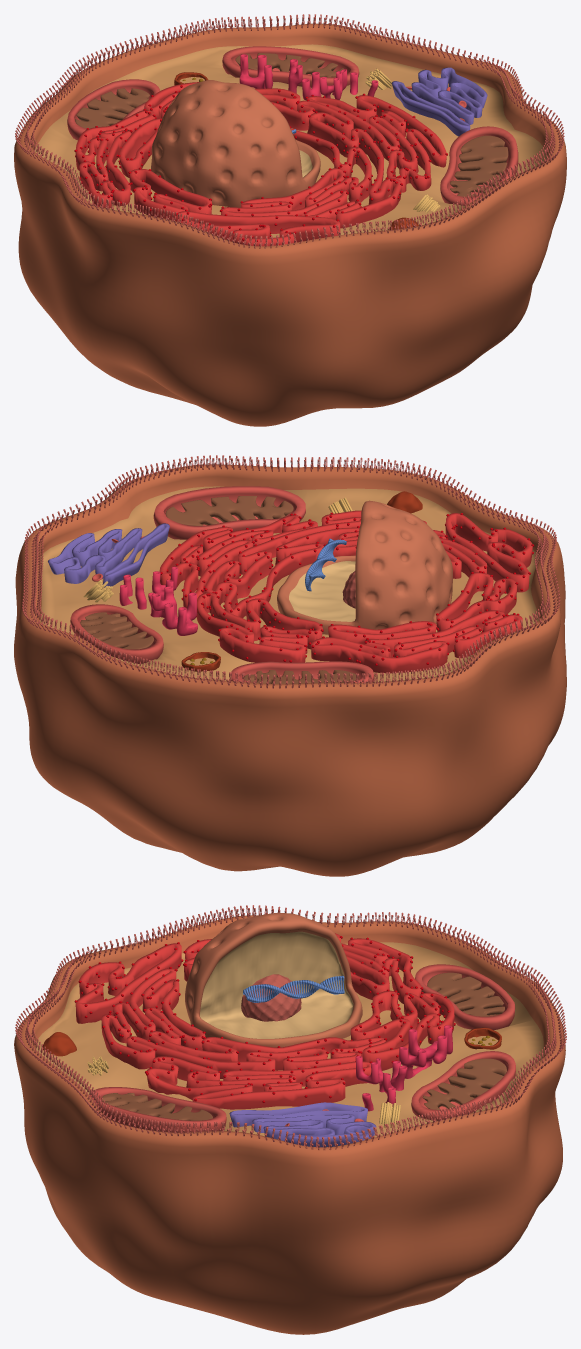
The model's file is cell.glb.
The picture shows the model from 3 angles, top to bottom: view 1: azimuth 30°, elevation 25°; view 2: azimuth 150°, elevation 25°; view 3: azimuth 270°, elevation 25°; orthographic projection. The views are drawn at different scales.
Parts seen in each view (by area): view 1: Base, Retic, nucleus, Vors, mitocondria, golgi-apparatus, Icosphere.001, Smooth Re, Centros; view 2: Base, Retic, nucleus, mitocondria, Vors, golgi-apparatus, Icosphere.001, Smooth Re, DNA, Centros, Lyb.001, Lyb; view 3: Base, Retic, nucleus, mitocondria, Vors, golgi-apparatus, Smooth Re, Icosphere.001, DNA, Centros, Lyb, Lyb.001.
Boxes of the visible parts, x1,y1,x2,y2 form: Base: (14, 23, 566, 426); Retic: (75, 82, 446, 246); nucleus: (151, 80, 320, 207); Vors: (15, 14, 564, 248); mitocondria: (67, 46, 518, 205); golgi-apparatus: (391, 67, 487, 136); Icosphere.001: (74, 85, 447, 245); Smooth Re: (239, 54, 378, 100); Centros: (365, 68, 440, 212); Base: (14, 464, 566, 876); Retic: (159, 510, 532, 673); nucleus: (277, 500, 452, 634); mitocondria: (70, 486, 374, 683); Vors: (22, 455, 560, 688); golgi-apparatus: (48, 523, 169, 587); Icosphere.001: (160, 512, 534, 665); Smooth Re: (119, 566, 197, 635); DNA: (305, 538, 346, 591); Centros: (83, 497, 352, 602); Lyb.001: (181, 652, 220, 671); Lyb: (387, 491, 422, 513); Base: (14, 915, 565, 1334); Retic: (75, 933, 454, 1109); nucleus: (185, 913, 362, 1047); mitocondria: (89, 964, 515, 1132); Vors: (15, 905, 566, 1150); golgi-apparatus: (229, 1102, 376, 1147); Smooth Re: (355, 1025, 452, 1111); Icosphere.001: (74, 936, 455, 1102); DNA: (243, 975, 344, 1002); Centros: (87, 1056, 400, 1127); Lyb: (42, 1032, 76, 1056); Lyb.001: (464, 1027, 501, 1049).
Size of the model in its own units: 1.9 by 1.21 by 1.85.
